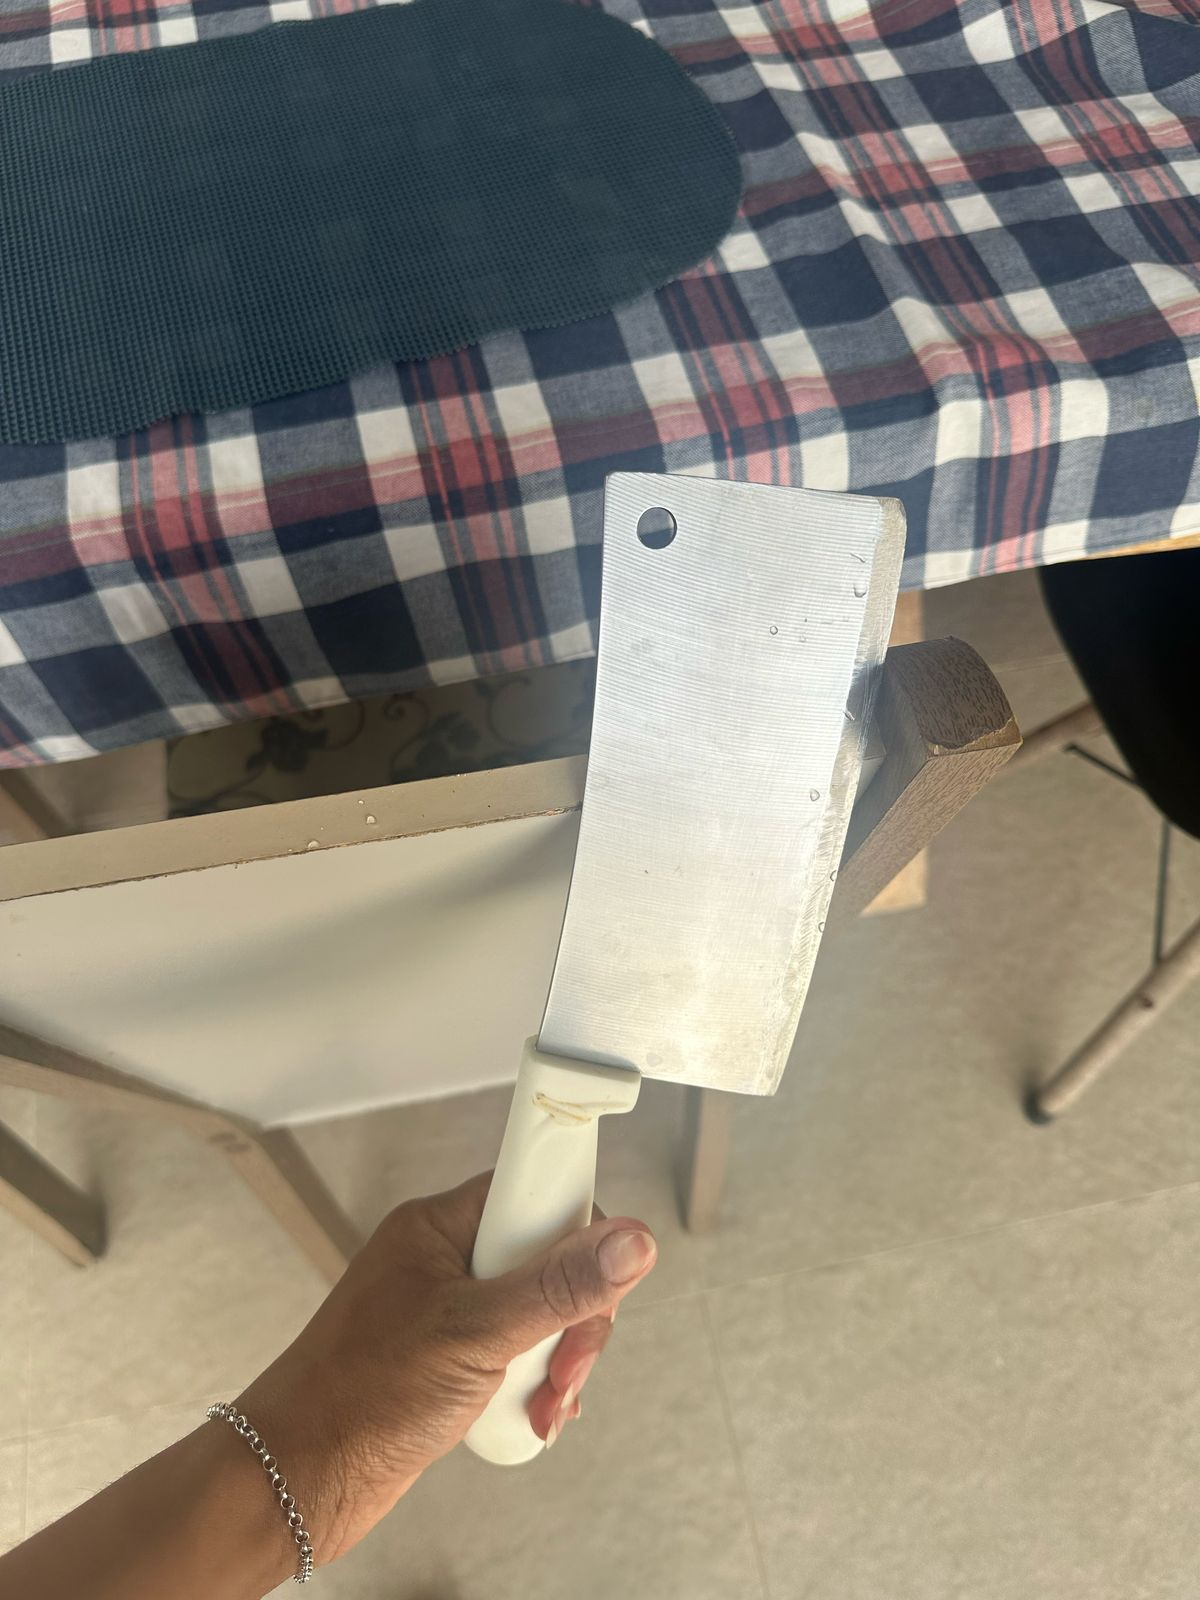faca: (492, 464, 914, 1218)
